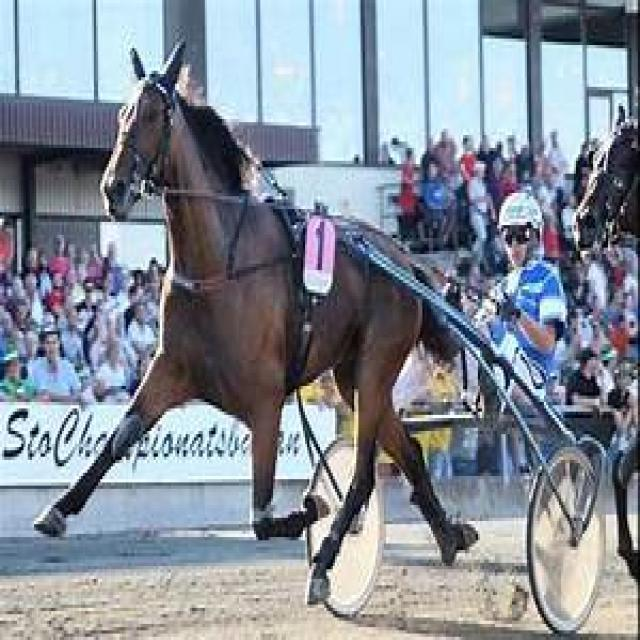horse: (32, 42, 478, 566)
